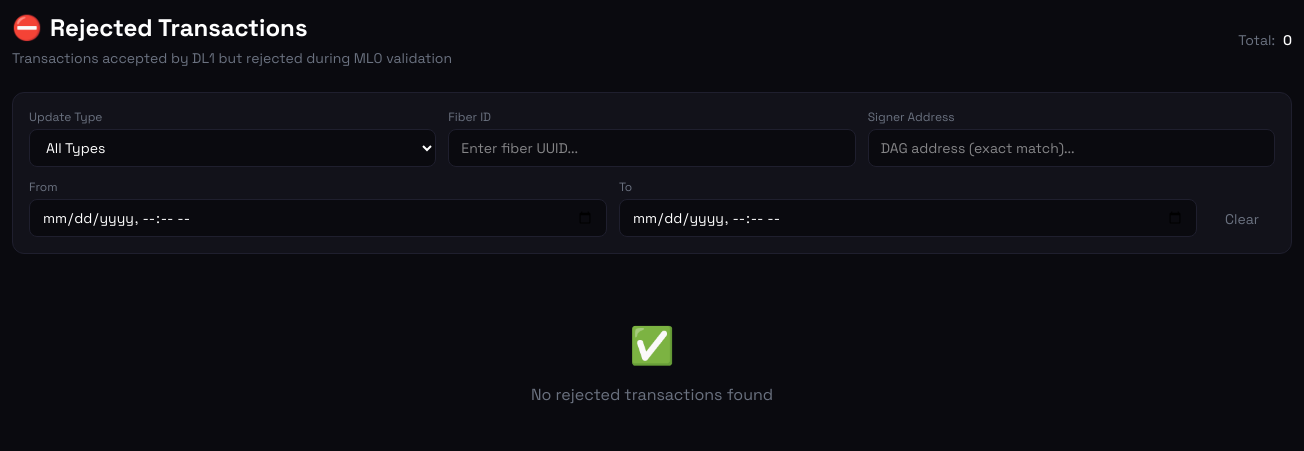
it: RejectionsView — URL State Persistence › empty results with active filters shows help text (AC17)
expect the text "No rejected transactions found" is shown: met, box left=531, top=384, right=773, bottom=405
Type "DAG" into the field with test id "filter-signer". click: (1071, 148)
box: left=868, top=129, right=1275, bottom=167
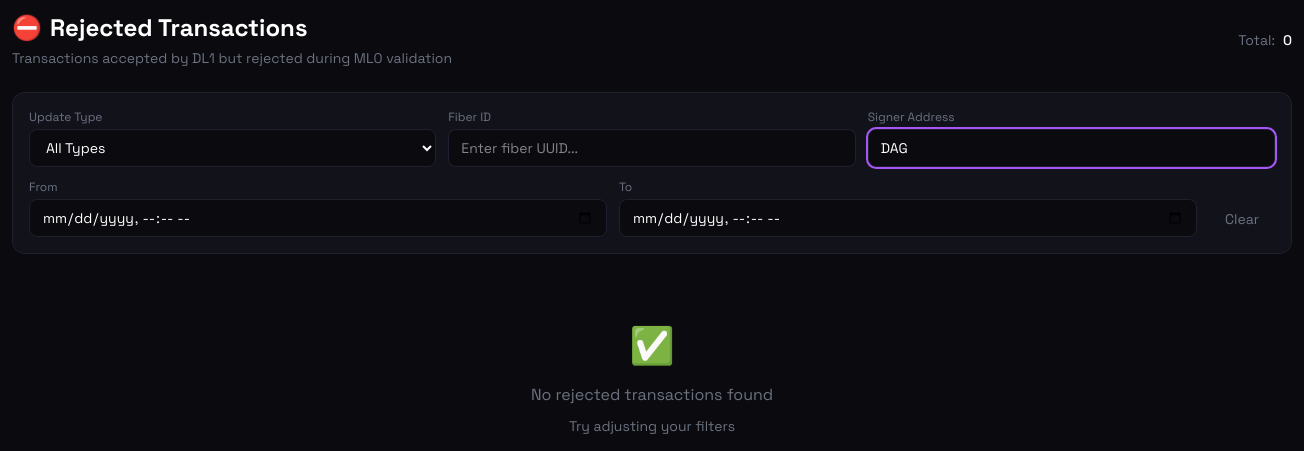
expect the text "Try adjusting your filters" is shown: met, box left=569, top=417, right=735, bottom=435
